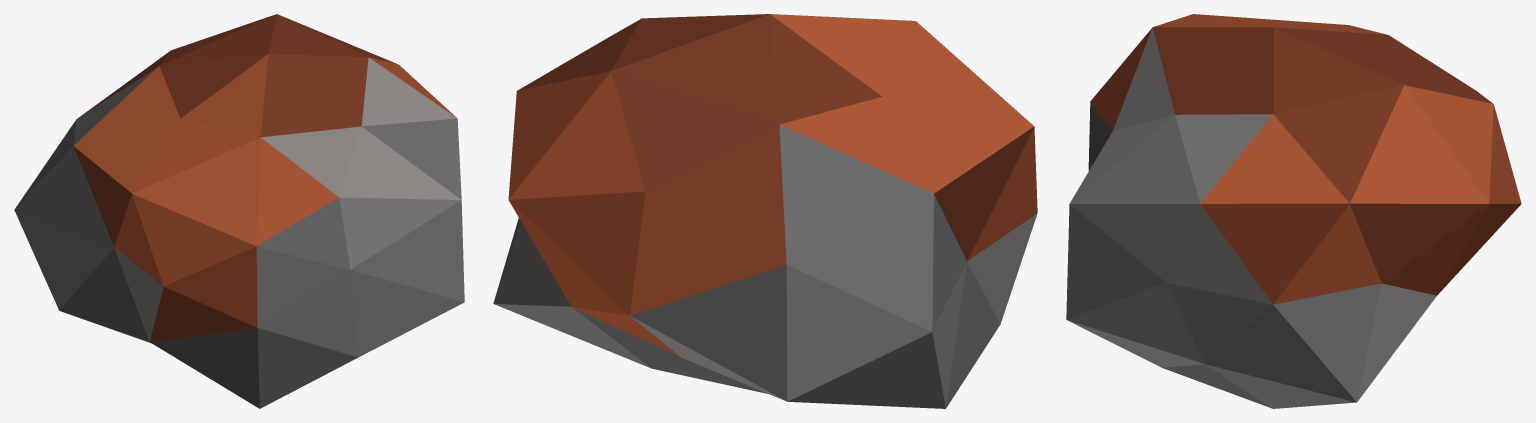
The model's file is iron_ore.glb.
The picture shows the model from 3 angles, left to right: view 1: azimuth 30°, elevation 25°; view 2: azimuth 150°, elevation 25°; view 3: azimuth 270°, elevation 25°; orthographic projection. The views are drawn at different scales.
Parts seen in each view (by area): view 1: iron_ore; view 2: iron_ore; view 3: iron_ore.
Part boxes in pixels (x1,y1,x2,y2): iron_ore: [14, 14, 464, 408]; iron_ore: [493, 14, 1037, 408]; iron_ore: [1066, 14, 1521, 408].
Bounding box in the file's own units: 0.8972 × 0.6783 × 0.8375.
